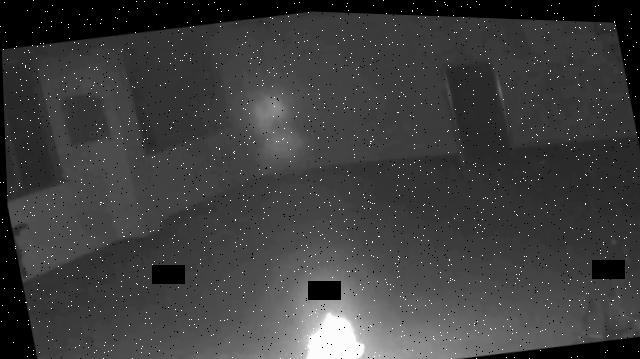fire: (295, 303, 359, 359)
